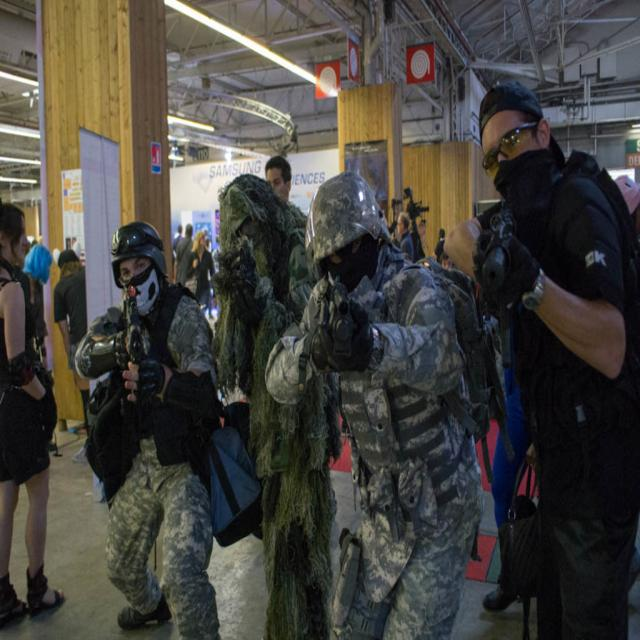Weapon: (280, 287, 400, 398), (471, 186, 554, 309), (108, 298, 169, 430), (222, 240, 266, 318)
